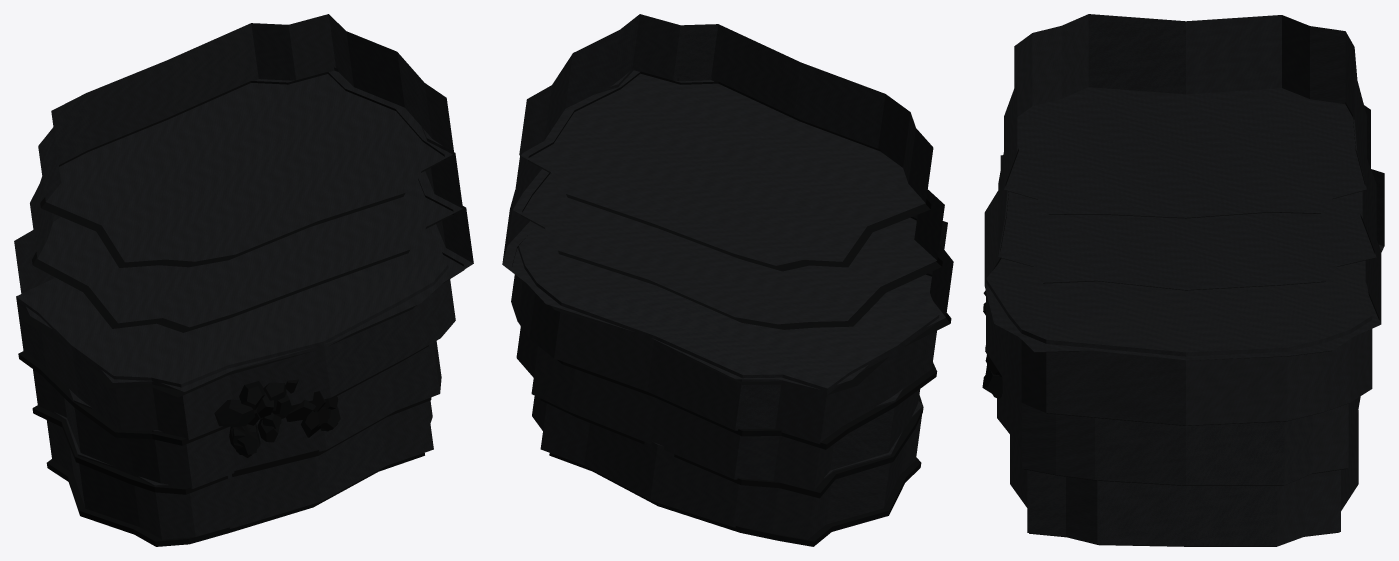
The model's file is kilnstone.glb.
3 views of the same model, side by side, from view 1: azimuth 30°, elevation 25°; view 2: azimuth 150°, elevation 25°; view 3: azimuth 270°, elevation 25° (orthographic). The views are drawn at different scales.
Visible parts, largest first — view 1: Grey black kilnstone laminae, Coal dark fracture pocket; view 2: Grey black kilnstone laminae, Coal dark fracture pocket; view 3: Grey black kilnstone laminae, Coal dark fracture pocket.
Boxes of the visible parts, x1,y1,x2,y2 form: Grey black kilnstone laminae: (14,14,473,539); Coal dark fracture pocket: (17,72,464,546); Grey black kilnstone laminae: (502,14,953,539); Coal dark fracture pocket: (512,71,951,546); Grey black kilnstone laminae: (984,14,1384,546); Coal dark fracture pocket: (982,102,1379,546).
Size of the model in its own units: 0.2782 by 0.2782 by 0.2206.
Materials: 2 (2 with a texture image).
